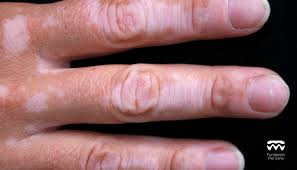vitiligo: (17, 9, 219, 152)
